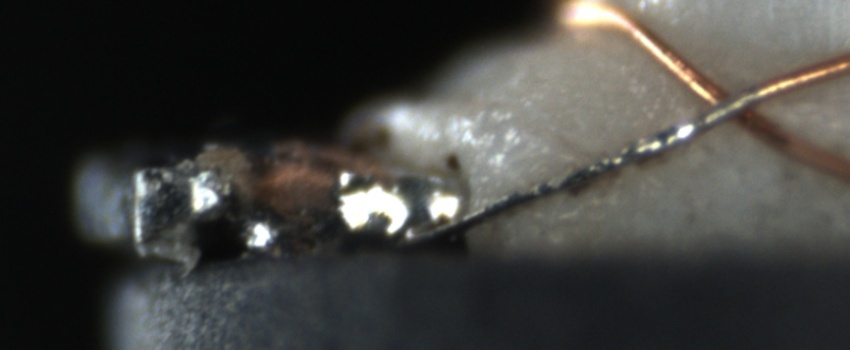CL: (688, 68, 773, 135)
TS: (397, 90, 758, 247)
TTCW: (413, 74, 783, 243)
